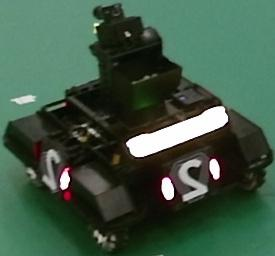armor_2: (161, 158, 220, 200)
back_2: (171, 153, 209, 204)
left_2: (125, 106, 228, 157), (39, 147, 62, 192)
